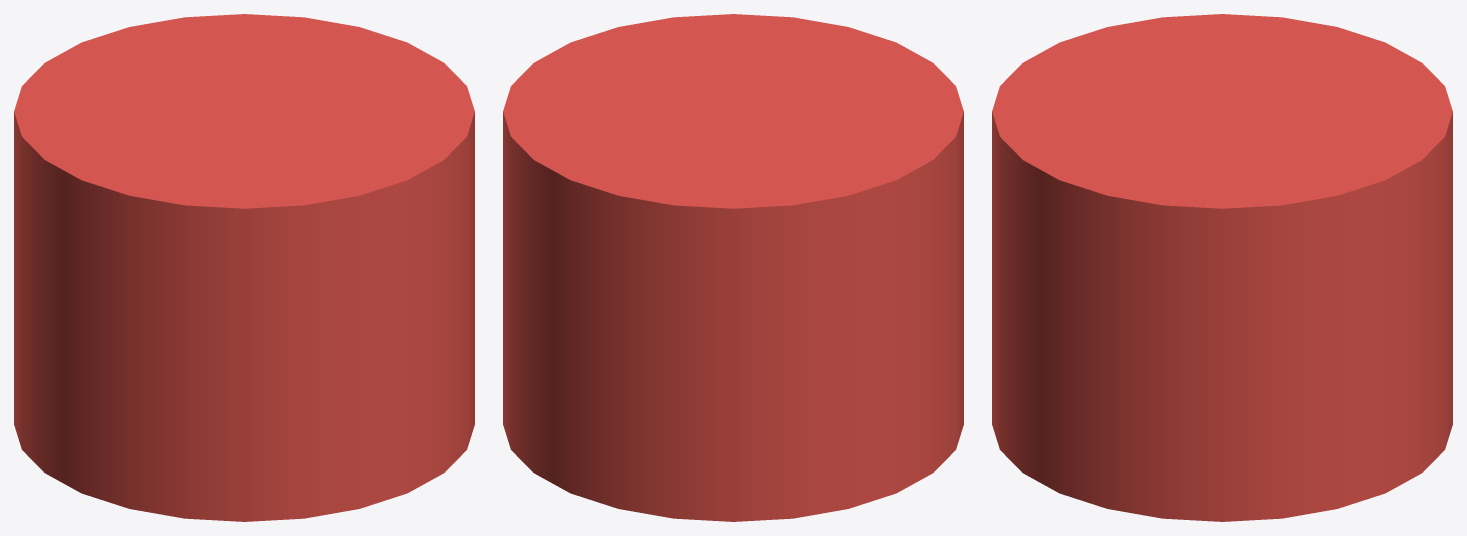
File: start_button.fbx
3 views of the same model, side by side, from view 1: azimuth 30°, elevation 25°; view 2: azimuth 150°, elevation 25°; view 3: azimuth 270°, elevation 25° (orthographic).
Visible parts, largest first — view 1: start_button; view 2: start_button; view 3: start_button.
Part boxes in pixels (x1,y1,x2,y2): start_button: (14, 14, 474, 521); start_button: (503, 14, 963, 521); start_button: (992, 14, 1452, 521).
Size of the model in its own units: 0.02 by 0.015 by 0.02.
